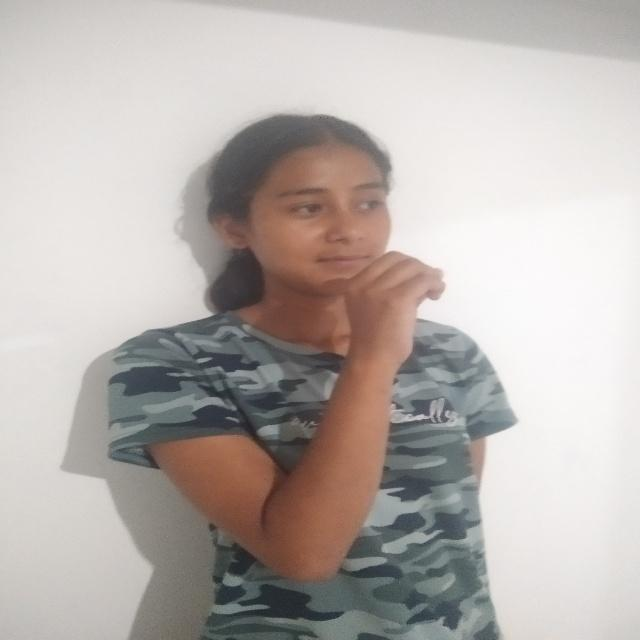Fist Mouth: (197, 115, 459, 354)
